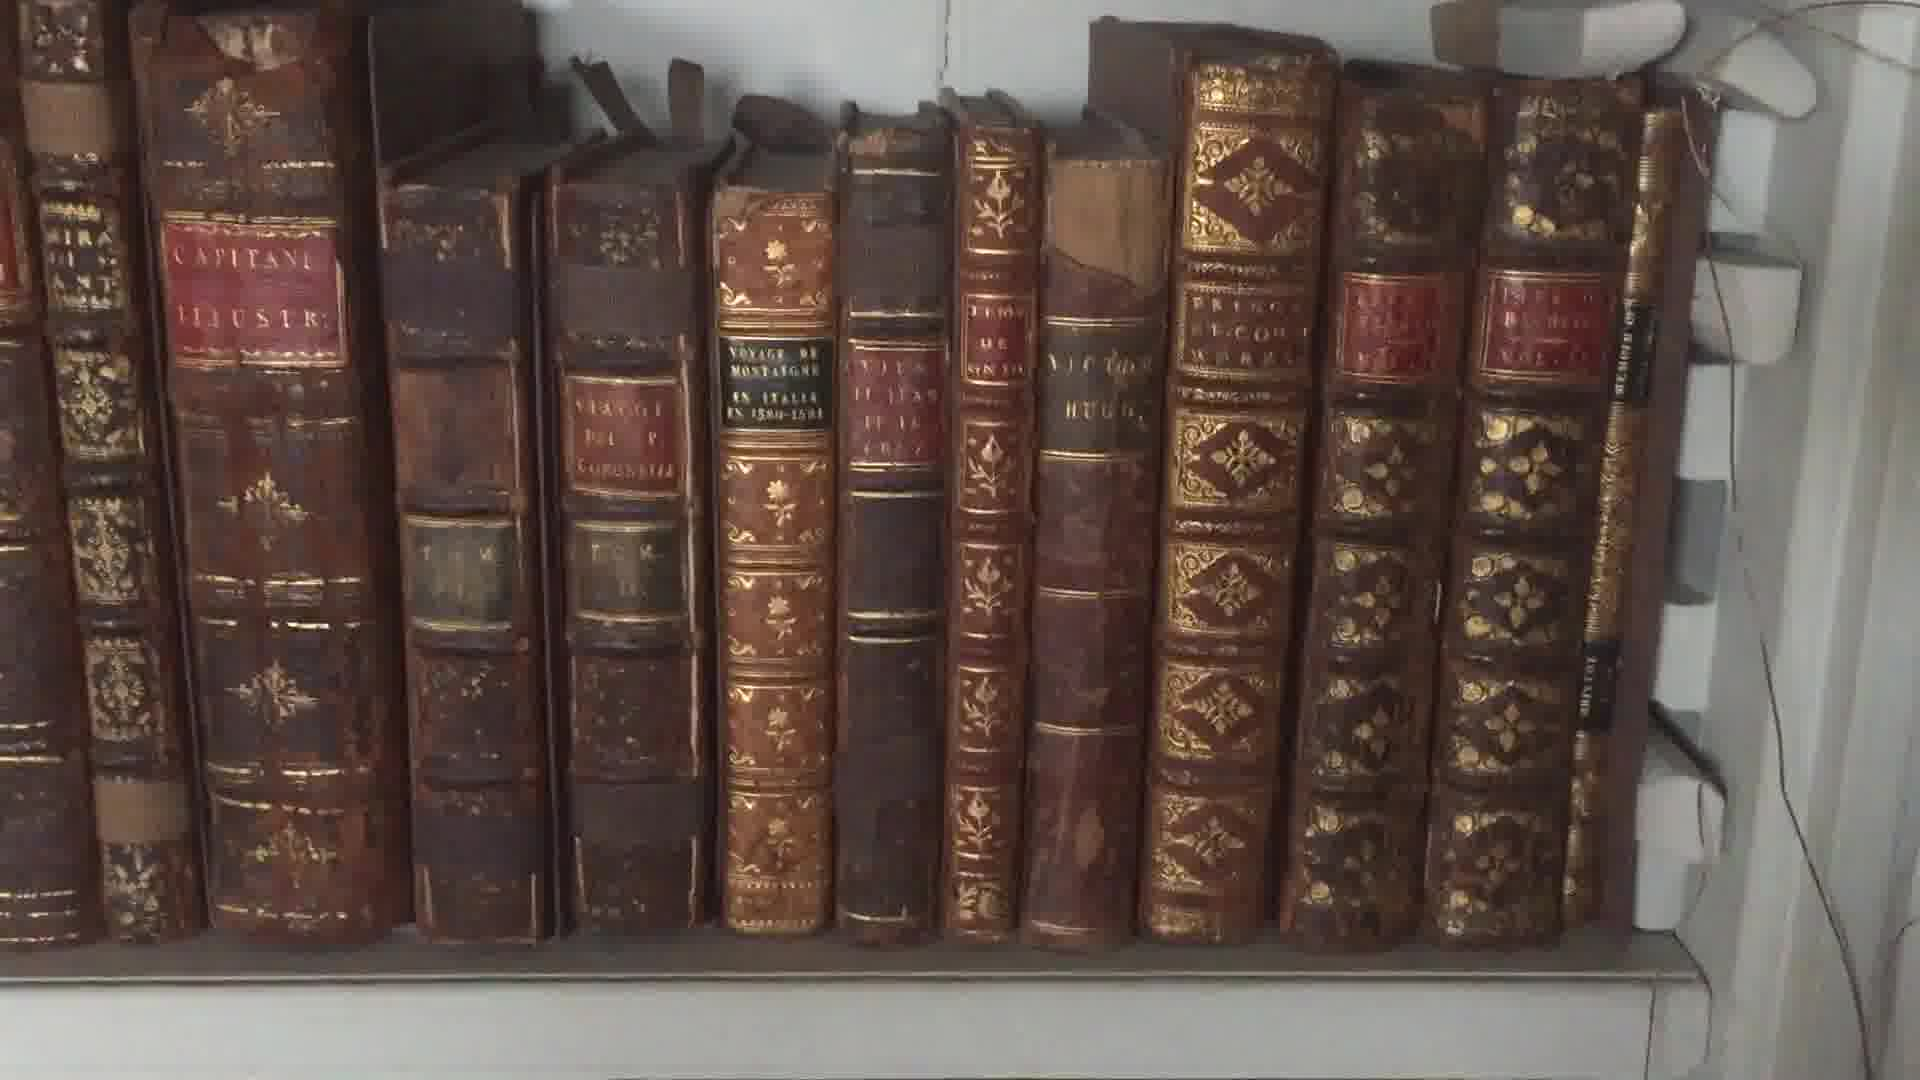Aa6-38: (119, 9, 402, 951)
Aa6-39_40: (355, 178, 736, 927)
Aa6-41: (707, 178, 841, 948)
Aa6-42: (848, 153, 955, 945)
Aa6-43: (955, 117, 1031, 956)
Aa6-44: (1040, 148, 1146, 971)
Aa6-45: (1138, 29, 1298, 963)
Aa6-46-47: (1304, 75, 1621, 967)
Aa6-48: (1573, 65, 1683, 959)
